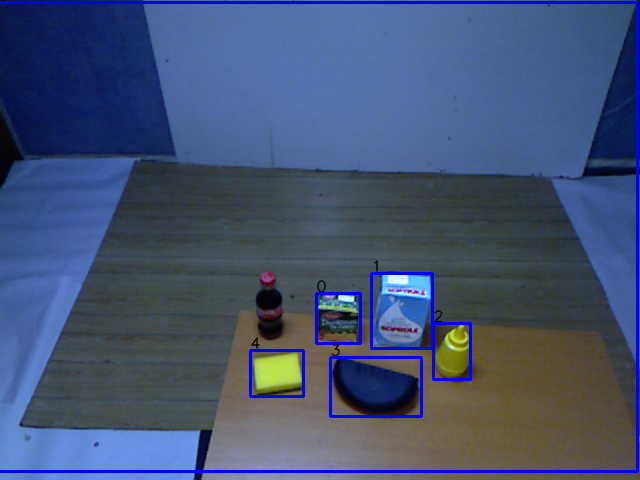coca: (253, 267, 290, 344)
durazno: (311, 285, 367, 349)
esponja: (245, 350, 305, 400)
estuche: (324, 353, 422, 430)
leche: (367, 268, 435, 359)
mostaza: (429, 318, 474, 386)
